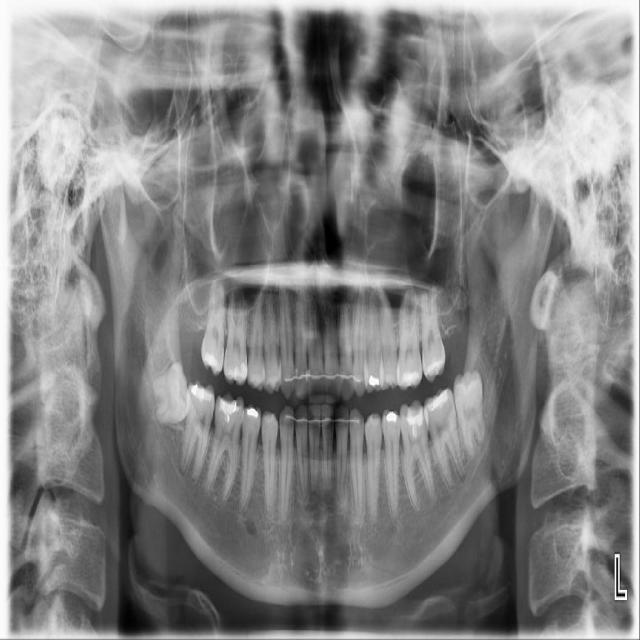Filling: (399, 399, 429, 442), (424, 390, 455, 415), (216, 399, 241, 423), (422, 357, 445, 380), (224, 359, 246, 382), (189, 384, 215, 402), (202, 350, 223, 372), (399, 371, 420, 388), (243, 407, 261, 422), (383, 412, 399, 427), (366, 372, 379, 387), (380, 374, 395, 387)
impacted tooth: (145, 362, 190, 428), (454, 372, 486, 457)
